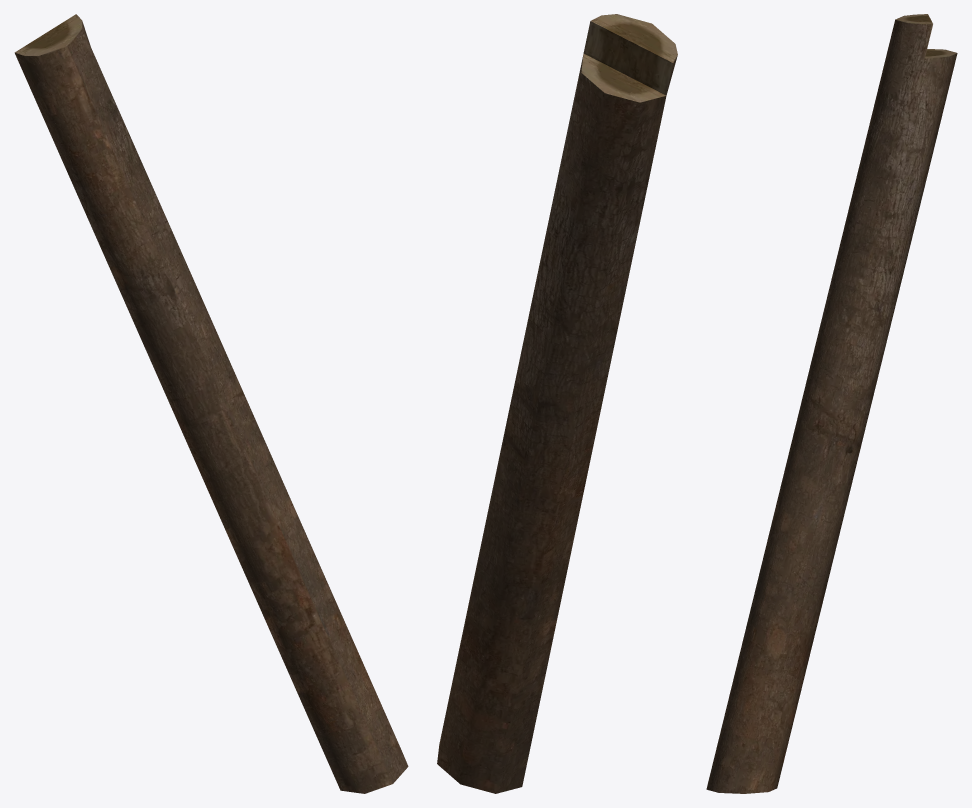
3 views of the same model, side by side, from view 1: azimuth 30°, elevation 25°; view 2: azimuth 150°, elevation 25°; view 3: azimuth 270°, elevation 25° (orthographic). The views are drawn at different scales.
Visible parts, largest first — view 1: TS_Lo_R; view 2: TS_Lo_R; view 3: TS_Lo_R.
Part boxes in pixels (box(x1,y1,x2,y2)): TS_Lo_R: box(14, 14, 408, 793); TS_Lo_R: box(437, 14, 677, 793); TS_Lo_R: box(706, 14, 957, 793).
Bounding box in the file's own units: 0.8745 × 2.14 × 0.7073.
Materials: 1 (1 with a texture image).
